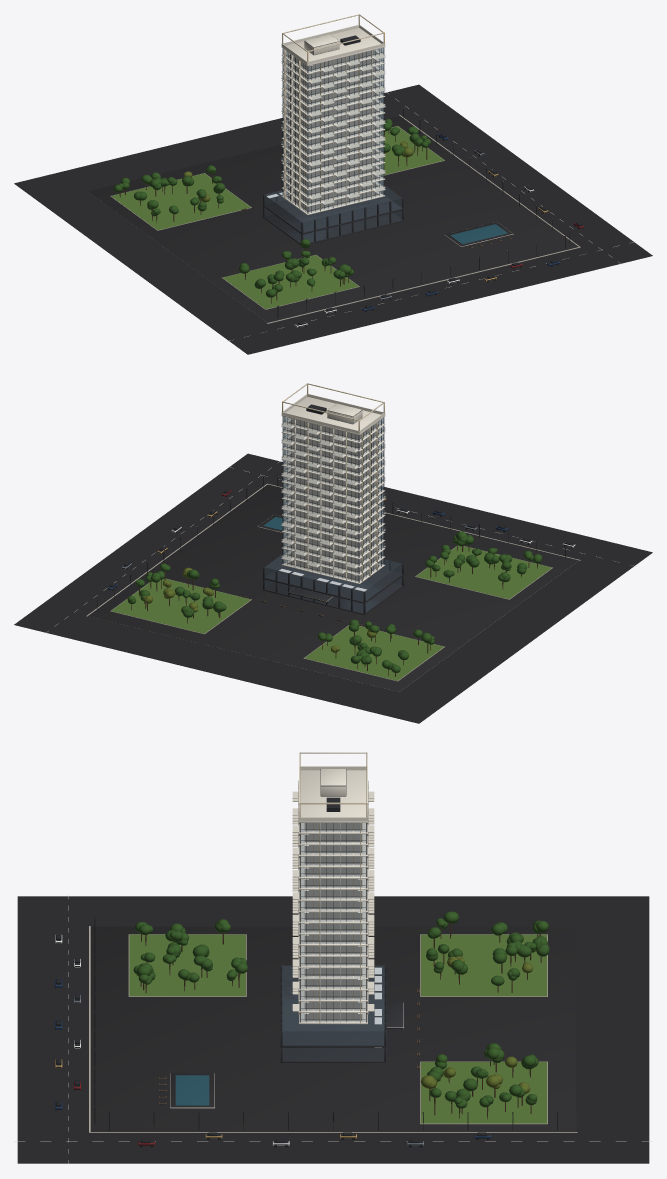
File: cmv4ysljt00q97dscwbra4pxq.glb
3 views of the same model, one above another, from view 1: azimuth 30°, elevation 25°; view 2: azimuth 150°, elevation 25°; view 3: azimuth 270°, elevation 25° (orthographic). The views are drawn at different scales.
Parts seen in each view (by area): view 1: site, podium, roof, floor-18, floor-3, floor-7, floor-9, floor-15, floor-4, floor-8, floor-11, floor-13 (+9 smaller); view 2: site, podium, roof, floor-18, floor-3, floor-7, floor-9, floor-15, floor-4, floor-8, floor-11, floor-13 (+9 smaller); view 3: site, podium, roof, floor-18, floor-10, floor-16, floor-4, floor-12, floor-6, floor-2, floor-8, floor-14 (+9 smaller).
Boxes of the visible parts, <box> form: site: <box>14,84,652,354</box>; podium: <box>262,185,404,244</box>; roof: <box>281,14,385,65</box>; floor-18: <box>281,47,385,74</box>; floor-3: <box>281,172,385,199</box>; floor-7: <box>281,139,385,166</box>; floor-9: <box>281,123,385,149</box>; floor-15: <box>281,73,384,100</box>; floor-4: <box>281,163,385,190</box>; floor-8: <box>281,130,385,157</box>; floor-11: <box>281,106,384,133</box>; floor-13: <box>281,90,385,116</box>; site: <box>14,453,652,723</box>; podium: <box>262,554,404,615</box>; roof: <box>281,383,385,434</box>; floor-18: <box>281,416,385,443</box>; floor-3: <box>281,541,385,568</box>; floor-7: <box>281,508,385,535</box>; floor-9: <box>281,492,385,518</box>; floor-15: <box>282,442,385,469</box>; floor-4: <box>281,532,385,559</box>; floor-8: <box>281,499,385,526</box>; floor-11: <box>282,475,385,502</box>; floor-13: <box>281,459,385,485</box>; site: <box>14,895,652,1164</box>; podium: <box>280,965,404,1062</box>; roof: <box>299,752,367,822</box>; floor-18: <box>292,780,374,834</box>; floor-10: <box>292,885,374,923</box>; floor-16: <box>292,818,374,856</box>; floor-4: <box>292,953,374,990</box>; floor-12: <box>292,863,374,901</box>; floor-6: <box>292,930,374,968</box>; floor-2: <box>292,975,374,1012</box>; floor-8: <box>292,908,374,945</box>; floor-14: <box>292,841,374,878</box>.
Bounding box in the file's own units: 171 × 74.56 × 171.
